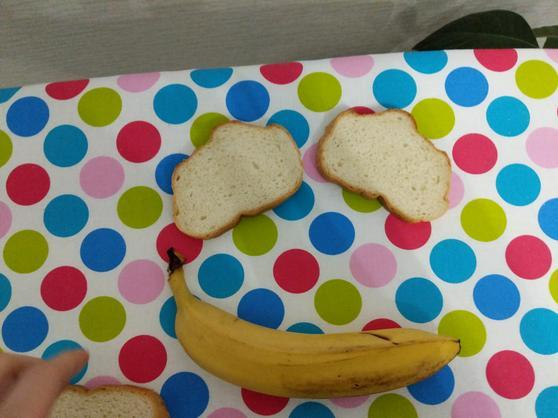banana: (147, 246, 482, 400)
white_bread: (159, 113, 310, 242), (317, 100, 460, 228)
